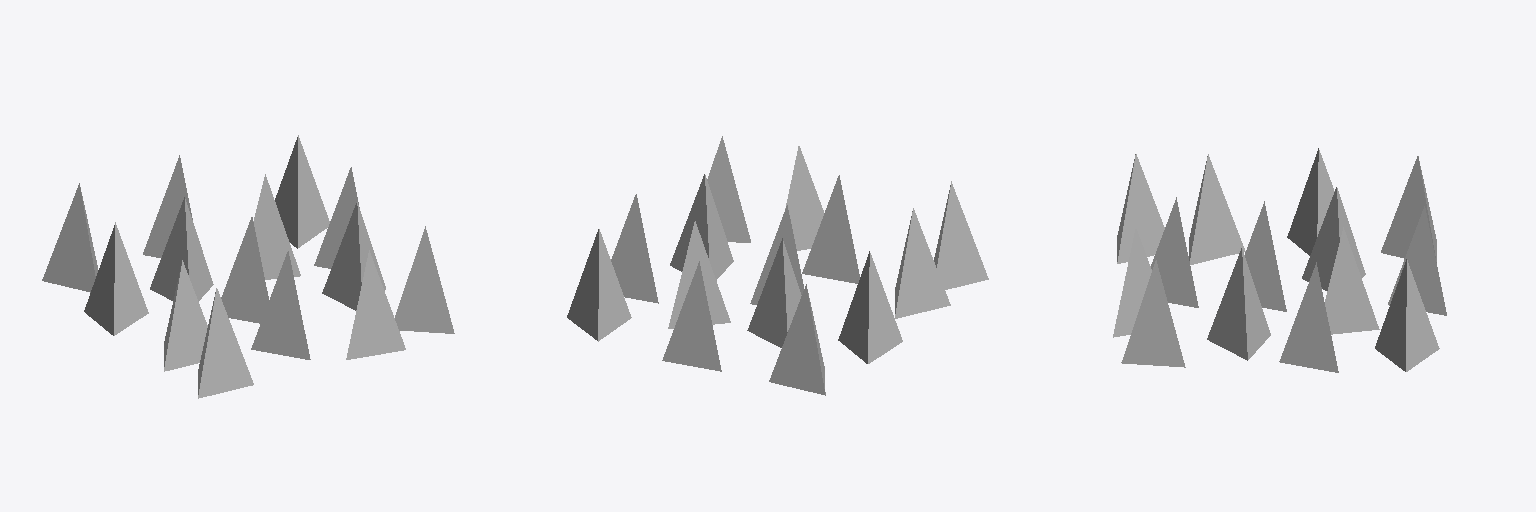
File: spikes.obj
3 views of the same model, side by side, from view 1: azimuth 30°, elevation 25°; view 2: azimuth 150°, elevation 25°; view 3: azimuth 270°, elevation 25° (orthographic).
Visible parts, largest first — view 1: Cone; view 2: Cone; view 3: Cone.
Part boxes in pixels (x1,y1,x2,y2): Cone: (42, 135, 454, 398); Cone: (567, 136, 988, 395); Cone: (1113, 148, 1446, 372).
Size of the model in its own units: 0.9342 by 0.3143 by 0.9699.